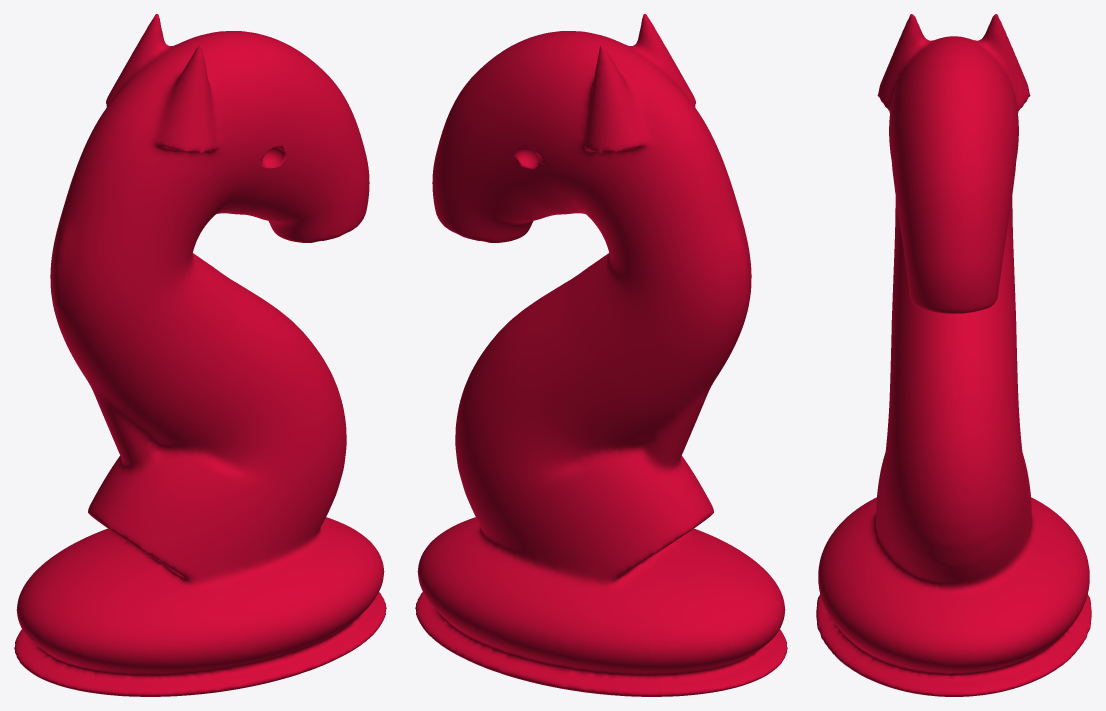
The model's file is cherry-chess-knight.glb.
3 views of the same model, side by side, from view 1: azimuth 30°, elevation 25°; view 2: azimuth 150°, elevation 25°; view 3: azimuth 270°, elevation 25° (orthographic). The views are drawn at different scales.
Parts seen in each view (by area): view 1: One-piece sculpted lacquer knight; view 2: One-piece sculpted lacquer knight; view 3: One-piece sculpted lacquer knight.
Part boxes in pixels (bbox=[...]): One-piece sculpted lacquer knight: bbox=[14, 14, 386, 696]; One-piece sculpted lacquer knight: bbox=[415, 14, 787, 696]; One-piece sculpted lacquer knight: bbox=[816, 14, 1091, 696].
Size of the model in its own units: 1.24 by 2.16 by 0.8875.
